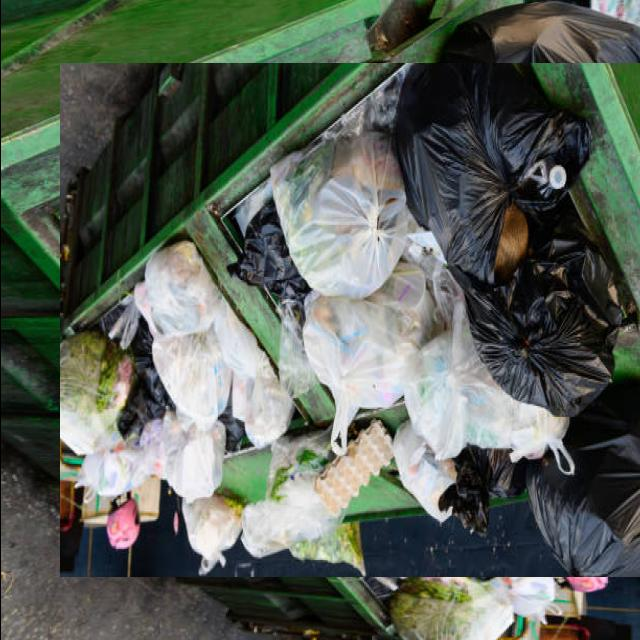garbage: (90, 31, 640, 608)
